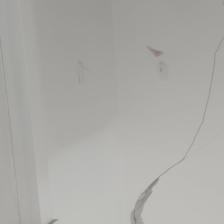Medium: (124, 52, 221, 222)
